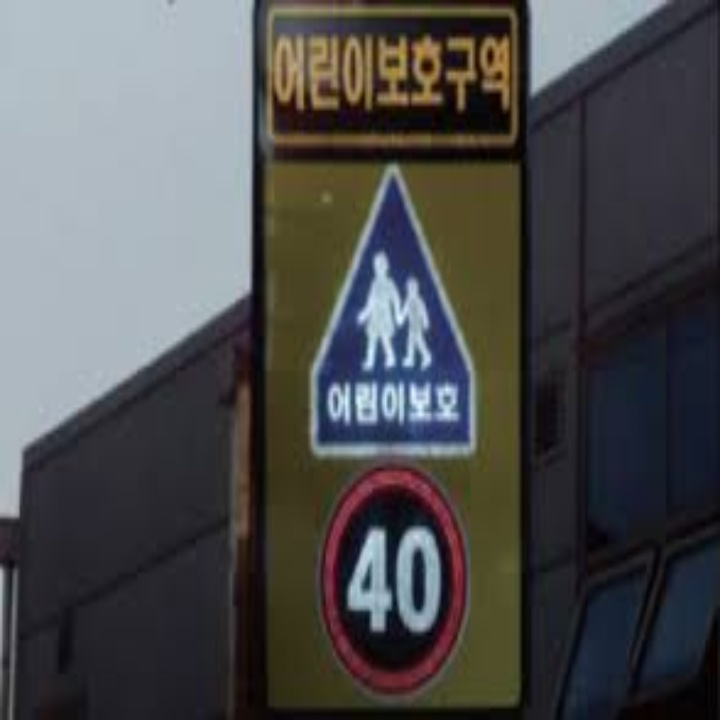child: (341, 248, 441, 373)
